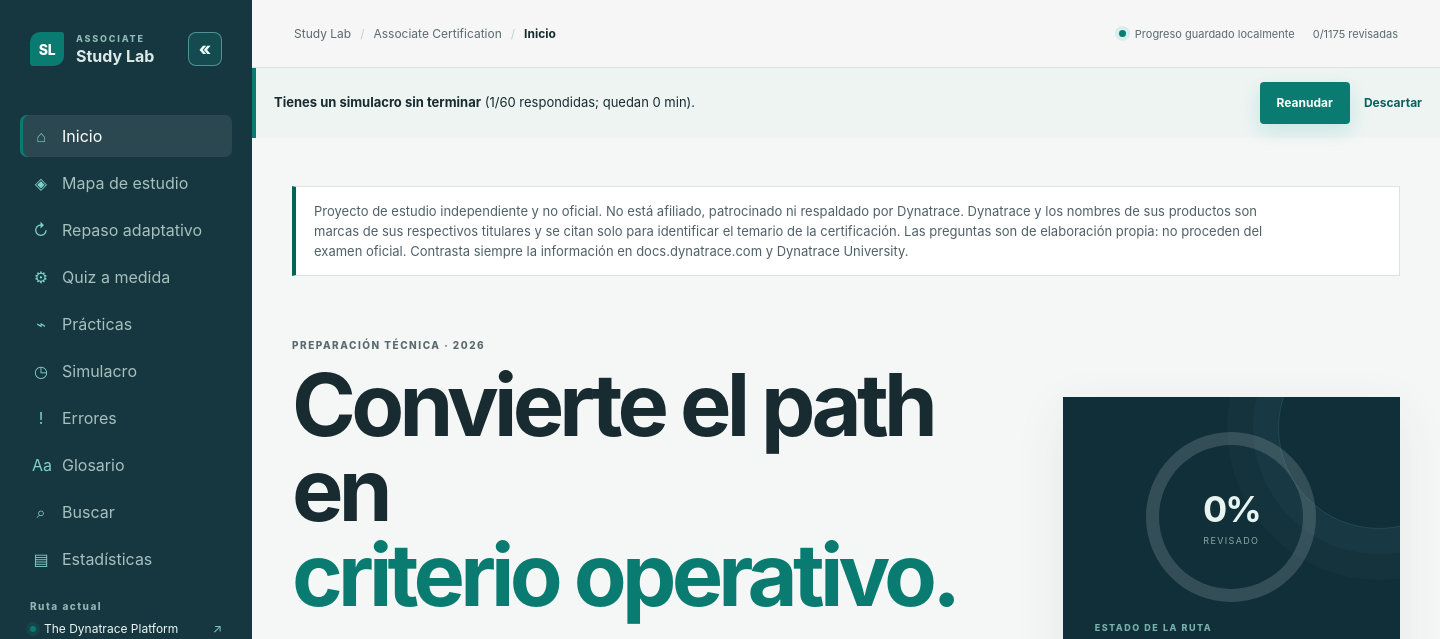
Scenario: sesiones con carga de su bloque › si el deadline guardado vence durante la descarga, se entrega al terminar con las respuestas guardadas
The image size is (1440, 639).
What coordinates should you click on to do the following:
click the button "Reanudar"
I would click on:
 (1305, 103)
Its box is [1260,82,1350,124].
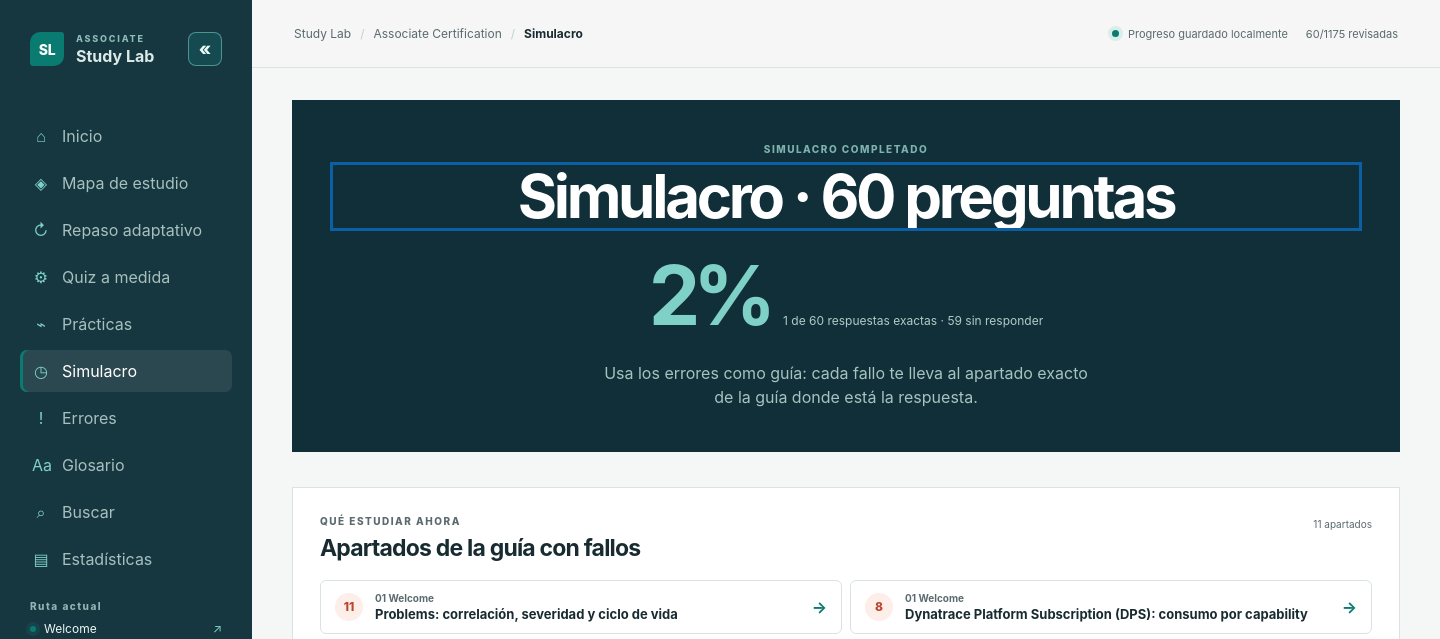
expect the text "SIMULACRO COMPLETADO" is shown: met, box [764,143,928,155]
